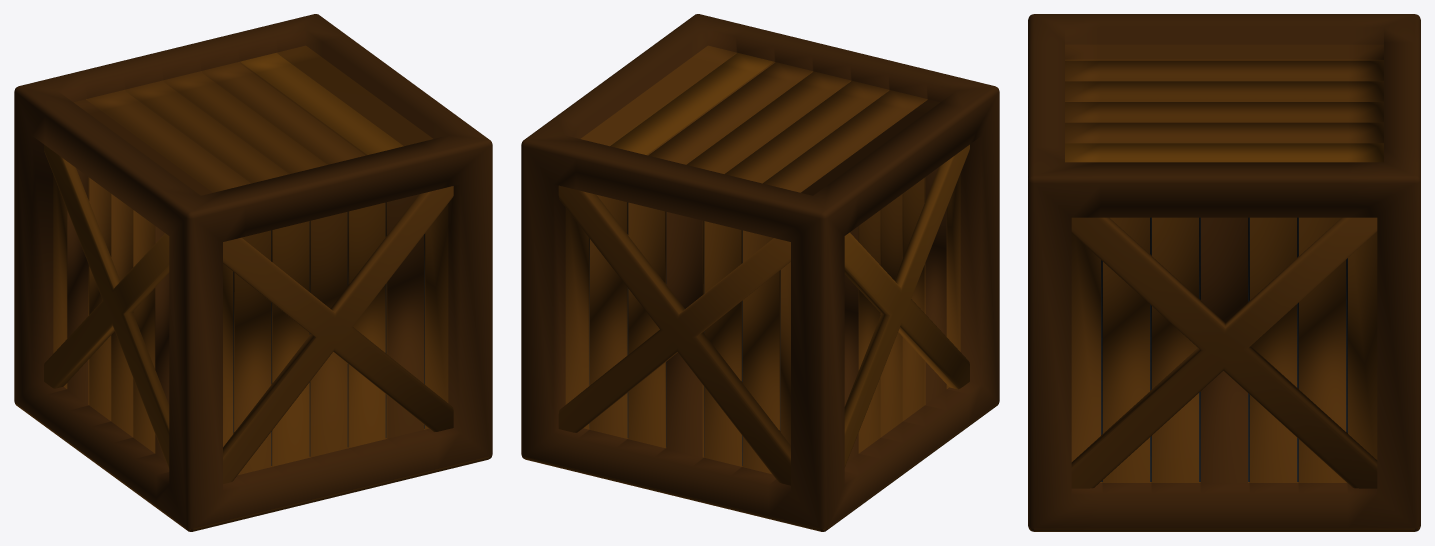
Rendered from SM_ICrate_Wood_Brown_V01.glb.
3 views of the same model, side by side, from view 1: azimuth 30°, elevation 25°; view 2: azimuth 150°, elevation 25°; view 3: azimuth 270°, elevation 25° (orthographic). The views are drawn at different scales.
Parts seen in each view (by area): view 1: SM_ICrate_Wood_Brown_V01; view 2: SM_ICrate_Wood_Brown_V01; view 3: SM_ICrate_Wood_Brown_V01.
Boxes of the visible parts, <box> form: SM_ICrate_Wood_Brown_V01: <box>14,14,492,531</box>; SM_ICrate_Wood_Brown_V01: <box>521,14,999,531</box>; SM_ICrate_Wood_Brown_V01: <box>1028,14,1420,531</box>.
Bounding box in the file's own units: 0.4681 × 0.4681 × 0.4681.
Materials: 1 (1 with a texture image).
